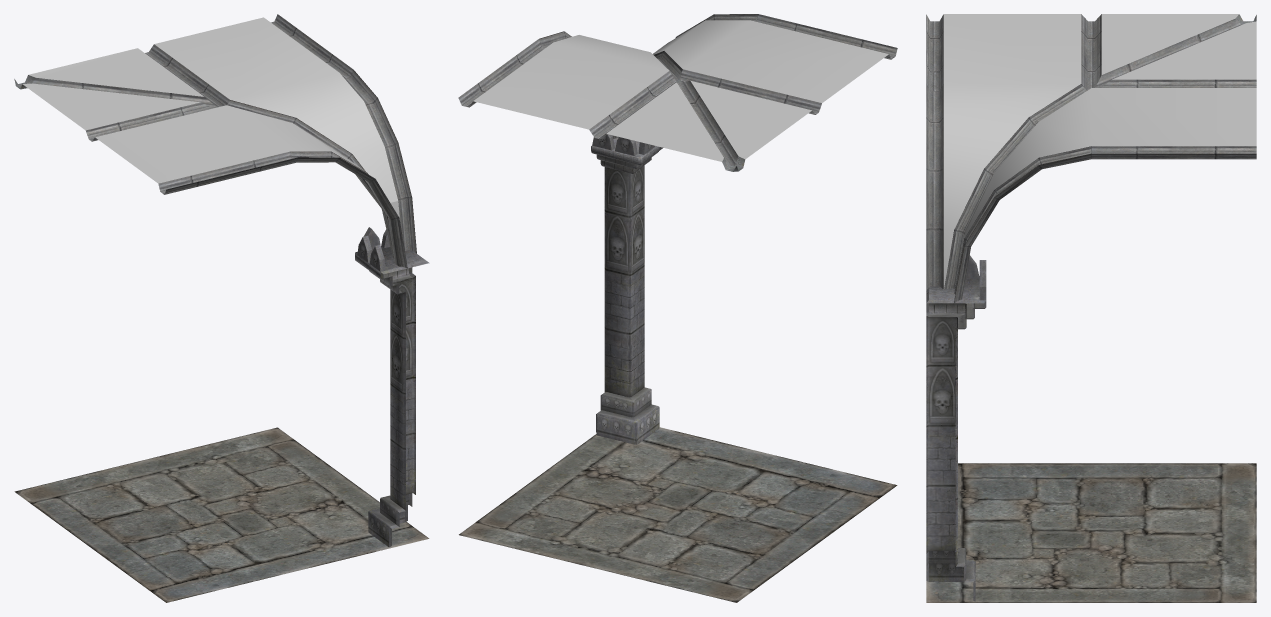
The model's file is Outside_corner.FBX.
3 views of the same model, side by side, from view 1: azimuth 30°, elevation 25°; view 2: azimuth 150°, elevation 25°; view 3: azimuth 270°, elevation 25° (orthographic). The views are drawn at different scales.
Parts seen in each view (by area): view 1: Outside_corner01; view 2: Outside_corner01; view 3: Outside_corner01.
Part boxes in pixels (bbox=[...]): Outside_corner01: bbox=[14, 14, 429, 602]; Outside_corner01: bbox=[458, 14, 897, 602]; Outside_corner01: bbox=[926, 14, 1256, 602].
Bounding box in the file's own units: 500 × 750 × 500.
